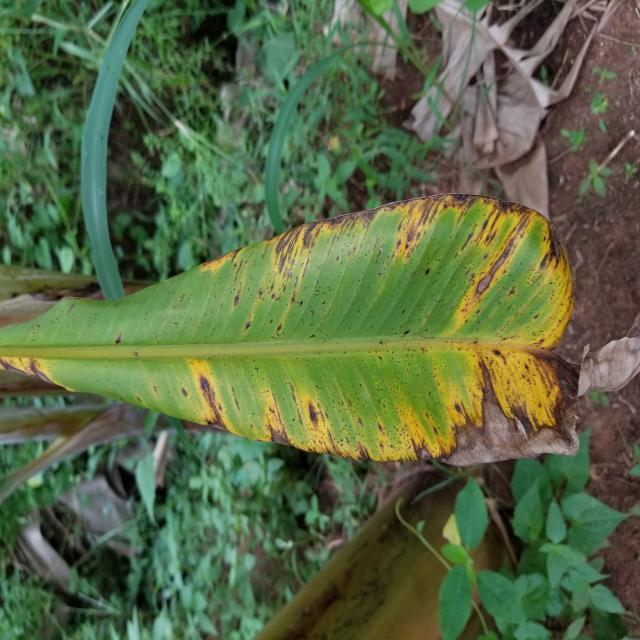Early_rust: (0, 194, 607, 485)
